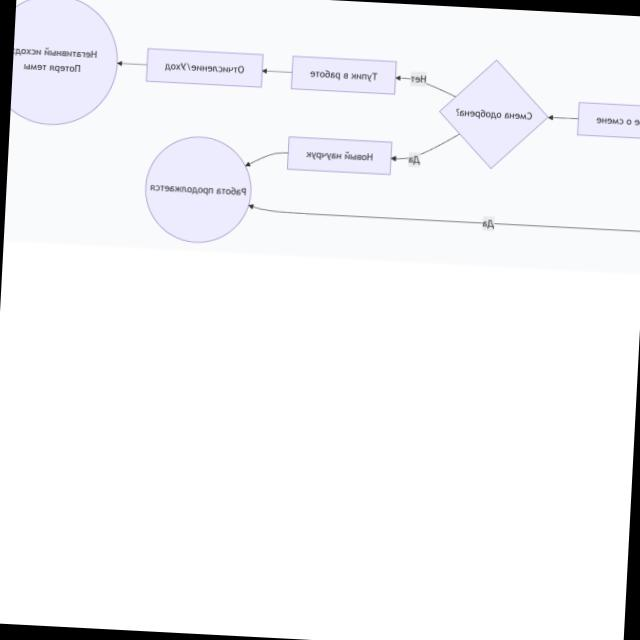arrow: (247, 203, 633, 234), (390, 131, 460, 168), (395, 75, 457, 97), (245, 147, 289, 171), (547, 113, 580, 124), (117, 60, 148, 70), (262, 68, 293, 76)
circle: (140, 136, 253, 246)
diamond: (438, 59, 547, 169)
rectangle: (145, 48, 262, 88), (289, 56, 396, 95), (286, 137, 392, 174)
text_region: (482, 214, 498, 232), (407, 152, 423, 168), (411, 71, 427, 87)
